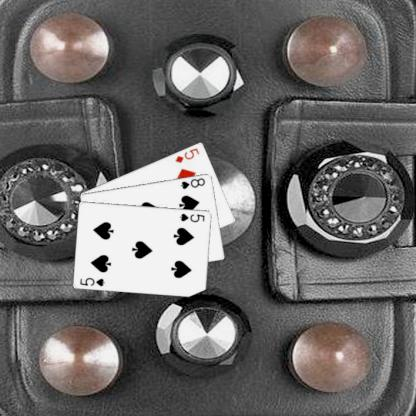5D: (173, 145, 200, 164)
5S: (178, 210, 206, 224), (78, 275, 106, 287)
8S: (178, 175, 206, 190)
